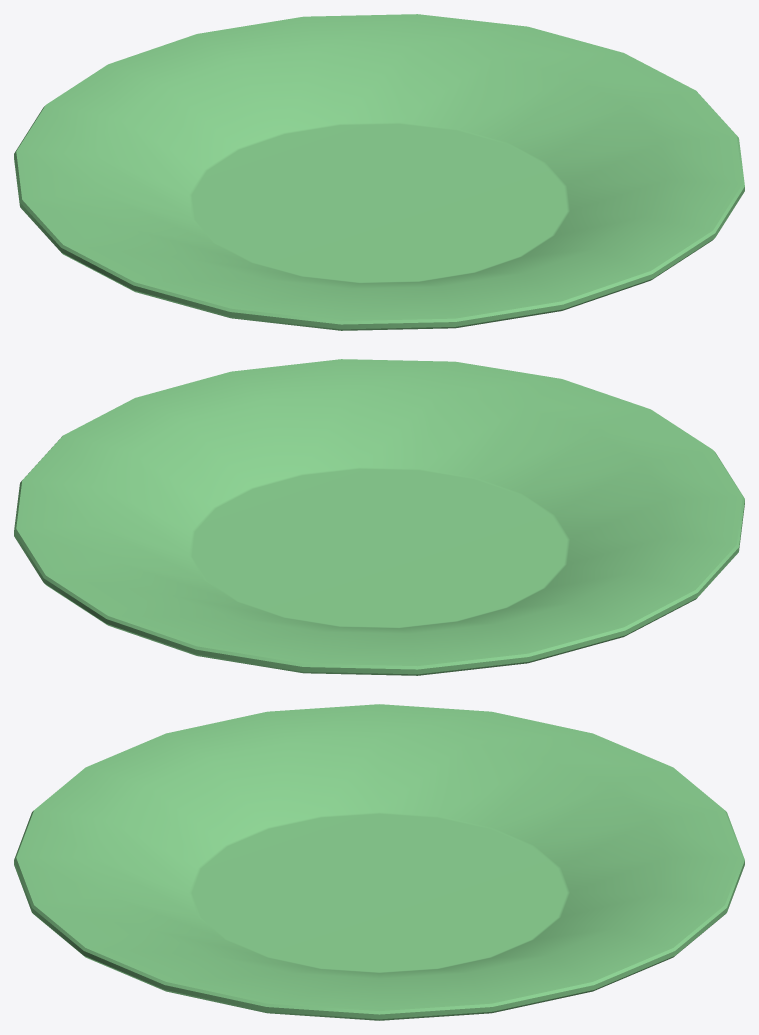
The model's file is masu3.fbx.
The picture shows the model from 3 angles, top to bottom: view 1: azimuth 30°, elevation 25°; view 2: azimuth 150°, elevation 25°; view 3: azimuth 270°, elevation 25°; orthographic projection.
Visible parts, largest first — view 1: pCylinder1; view 2: pCylinder1; view 3: pCylinder1.
Boxes of the visible parts, left/top/right/bottom form: pCylinder1: left=14, top=14, right=744, bottom=330; pCylinder1: left=14, top=359, right=744, bottom=675; pCylinder1: left=14, top=704, right=744, bottom=1020.
Size of the model in its own units: 4.45 by 0.3029 by 4.45.
